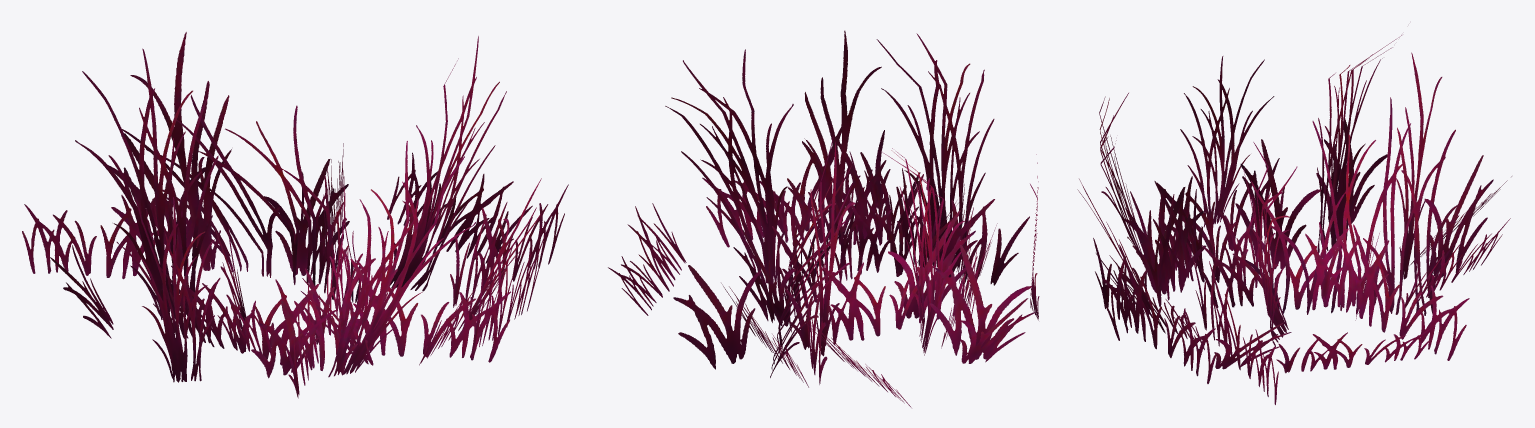
The picture shows the model from 3 angles, left to right: view 1: azimuth 30°, elevation 25°; view 2: azimuth 150°, elevation 25°; view 3: azimuth 270°, elevation 25°; orthographic projection. The views are drawn at different scales.
Visible parts, largest first — view 1: SM_GF_GrassLong_01_LOD0; view 2: SM_GF_GrassLong_01_LOD0; view 3: SM_GF_GrassLong_01_LOD0.
Part boxes in pixels (x1,y1,x2,y2): SM_GF_GrassLong_01_LOD0: (22, 32, 568, 398); SM_GF_GrassLong_01_LOD0: (608, 30, 1039, 407); SM_GF_GrassLong_01_LOD0: (1077, 35, 1511, 404).
Bounding box in the file's own units: 1.13 × 0.6198 × 0.9578.
1 material, 1 textured.
